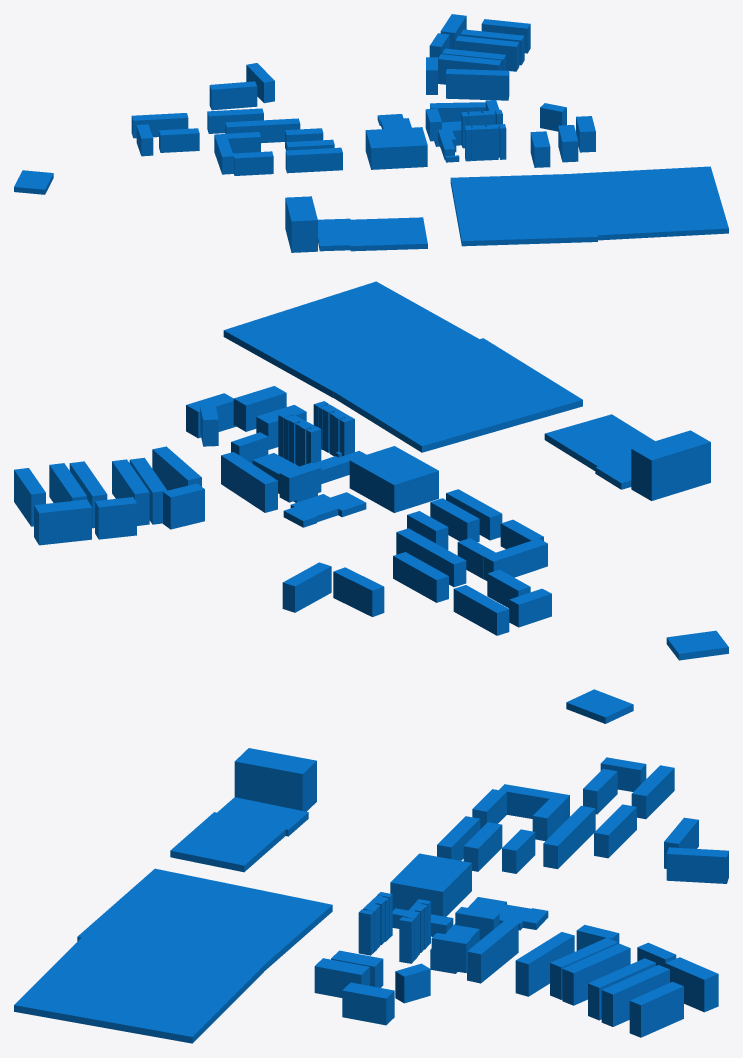
The model's file is Dummy_URB.fbx.
3 renders of one model, top to bottom at view 1: azimuth 30°, elevation 25°; view 2: azimuth 150°, elevation 25°; view 3: azimuth 270°, elevation 25°, orthographic. The views are drawn at different scales.
Parts seen in each view (by area): view 1: Cube__35_, Cube__34_, Cube__36_, Cube__41_, Cube__11_, Cube__38_, Cube__26_, Cube__21_, Cube__23_, Cube__14_, Cube__37_, Cube__30_ (+23 smaller); view 2: Cube__34_, Cube__35_, Cube__38_, Cube__41_, Cube__36_, Cube__19_, Cube__5__2, Cube__23_, Cube__30_, Cube__21_, Cube__22_, Cube__20_ (+27 smaller); view 3: Cube__35_, Cube__34_, Cube__38_, Cube__36_, Cube__41_, Cube__16_, Cube__13_, Cube__20_, Cube__5__2, Cube__11_, Cube__15_, Cube__23_ (+27 smaller).
Part boxes in pixels (x1,y1,x2,y2): Cube__35_: (572,166,728,240); Cube__34_: (450,174,597,246); Cube__36_: (348,217,427,251); Cube__41_: (365,127,427,169); Cube__11_: (446,69,509,100); Cube__38_: (285,196,317,252); Cube__26_: (285,147,342,173); Cube__21_: (209,81,257,110); Cube__23_: (225,118,300,143); Cube__14_: (455,35,519,71); Cube__37_: (318,218,353,251); Cube__30_: (131,113,188,138); Cube__34_: (323,338,582,452); Cube__35_: (223,281,485,397); Cube__38_: (631,430,710,500); Cube__41_: (349,446,438,512); Cube__36_: (544,414,654,470); Cube__19_: (34,499,91,545); Cube__5__2: (221,452,277,512); Cube__23_: (396,528,466,587); Cube__30_: (453,585,509,635); Cube__21_: (333,567,384,616); Cube__22_: (393,552,448,602); Cube__20_: (282,562,331,612); Cube__35_: (14,934,263,1043); Cube__34_: (77,868,332,972); Cube__38_: (234,748,316,811); Cube__36_: (170,812,285,872); Cube__41_: (390,853,471,916); Cube__16_: (629,982,683,1037); Cube__13_: (562,943,630,1005); Cube__20_: (666,847,728,883); Cube__5__2: (467,920,518,983); Cube__11_: (515,932,574,996); Cube__15_: (601,965,669,1026); Cube__23_: (543,805,595,869).
Size of the model in its own units: 100509 by 6977 by 87347.
